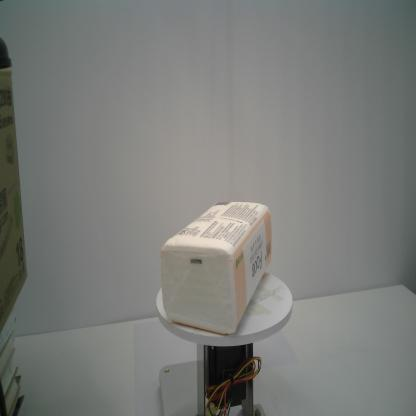Tissue: (160, 199, 272, 335)
